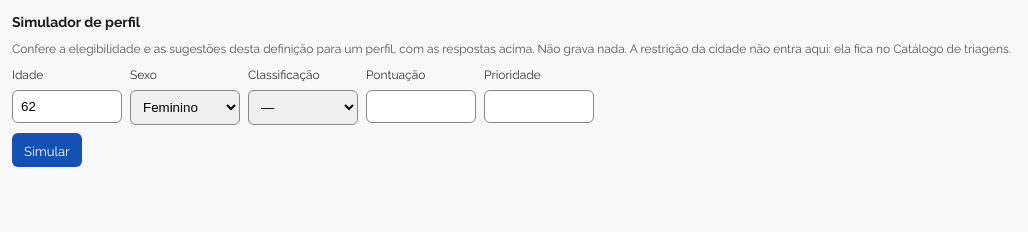
Test: OfferSimulator › não elegível e erros do gate
Click the button "Simular".
click(47, 150)  # box [12,133,82,167]
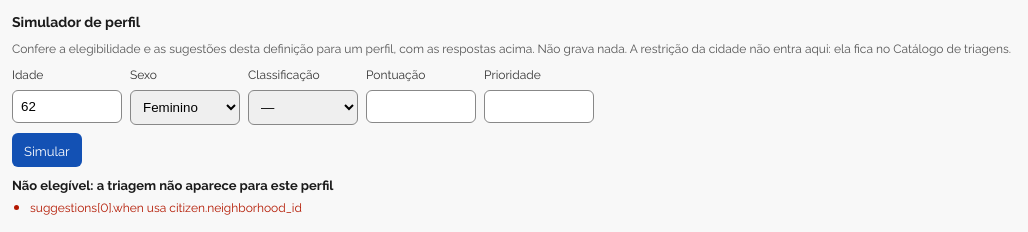
Result: the text "Não elegível: a triagem não aparece para este perfil" is shown at [12,175,333,193]
Result: the list item "suggestions[0].when usa citizen.neighborhood_id" is shown at [30,198,302,215]
